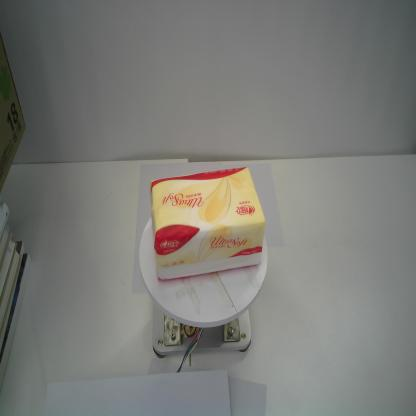Tissue: (147, 165, 267, 283)
